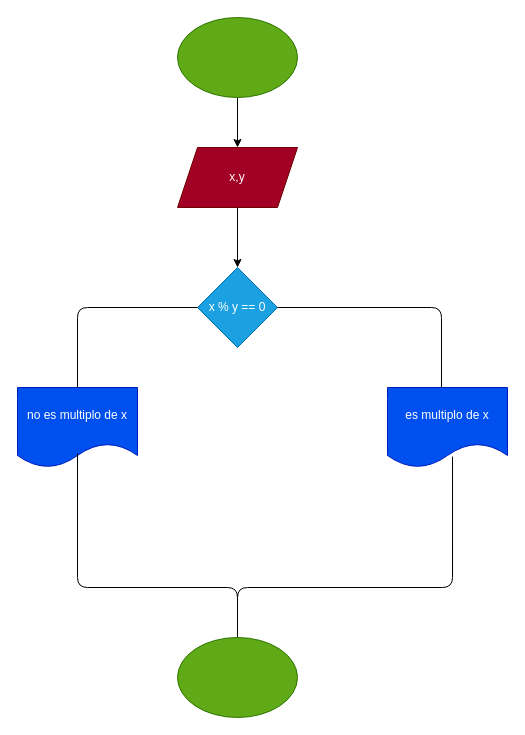
Image size: 525x735. Some labels were removed from this diagram. Each missing label, with the centre of its shape:
"fin" belongs at (x=237, y=677).
"inicio" belongs at (x=237, y=57).
